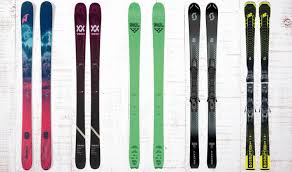skis: (126, 1, 166, 172), (19, 1, 56, 172), (69, 2, 103, 172), (186, 2, 219, 172), (242, 1, 274, 172)
